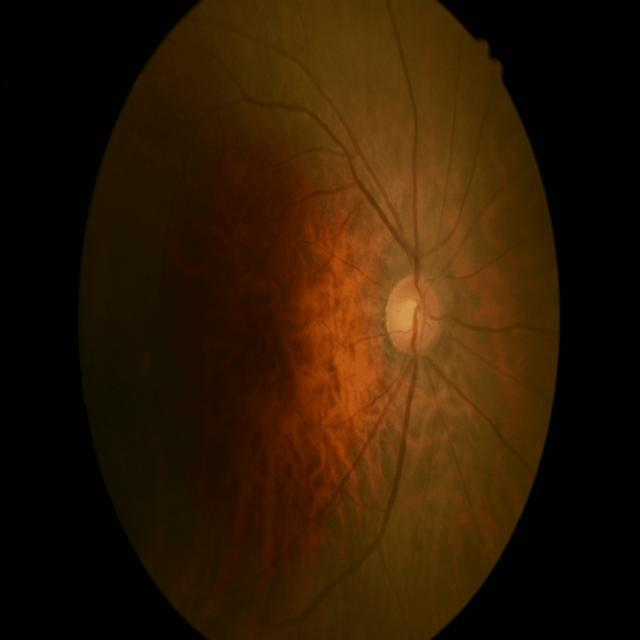cup: (398, 296, 426, 334)
disk: (384, 274, 442, 356)
